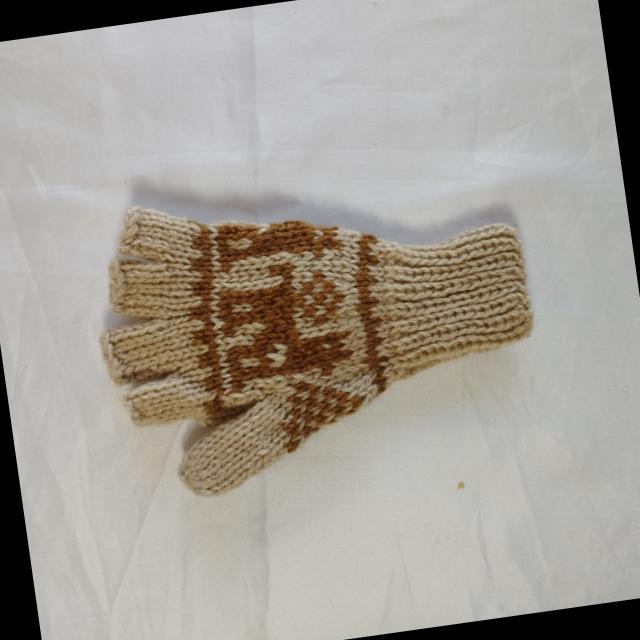Guante: (81, 151, 553, 510)
